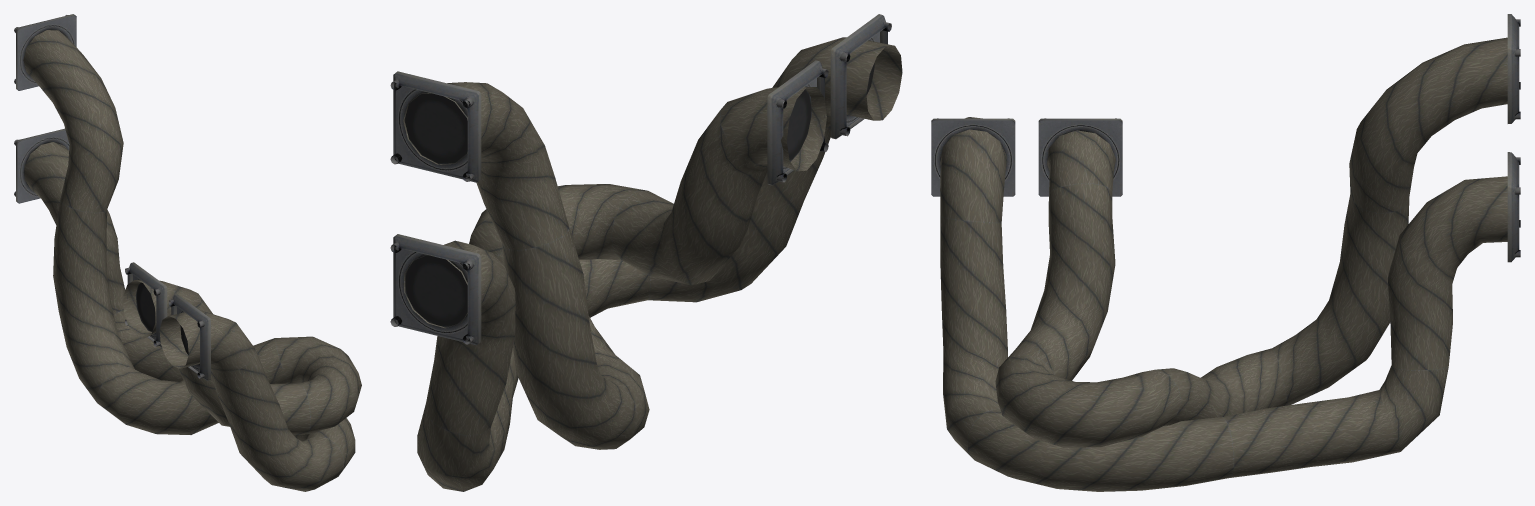
Rendered from coolant_pipe_office.dae.
The picture shows the model from 3 angles, left to right: view 1: azimuth 30°, elevation 25°; view 2: azimuth 150°, elevation 25°; view 3: azimuth 270°, elevation 25°; orthographic projection. The views are drawn at different scales.
Parts seen in each view (by area): view 1: special_office; view 2: special_office; view 3: special_office.
Part boxes in pixels (x1,y1,x2,y2): special_office: [14, 14, 361, 491]; special_office: [390, 14, 902, 491]; special_office: [931, 14, 1520, 491].
Bounding box in the file's own units: 0.9203 × 1.25 × 1.66.
